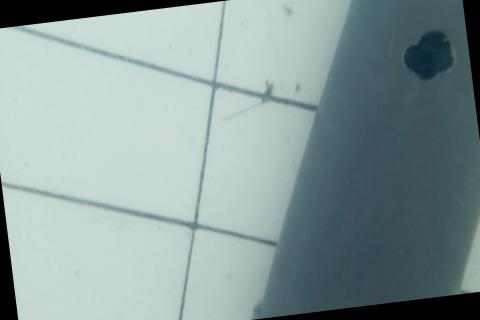kebocoran: (397, 23, 458, 86)
